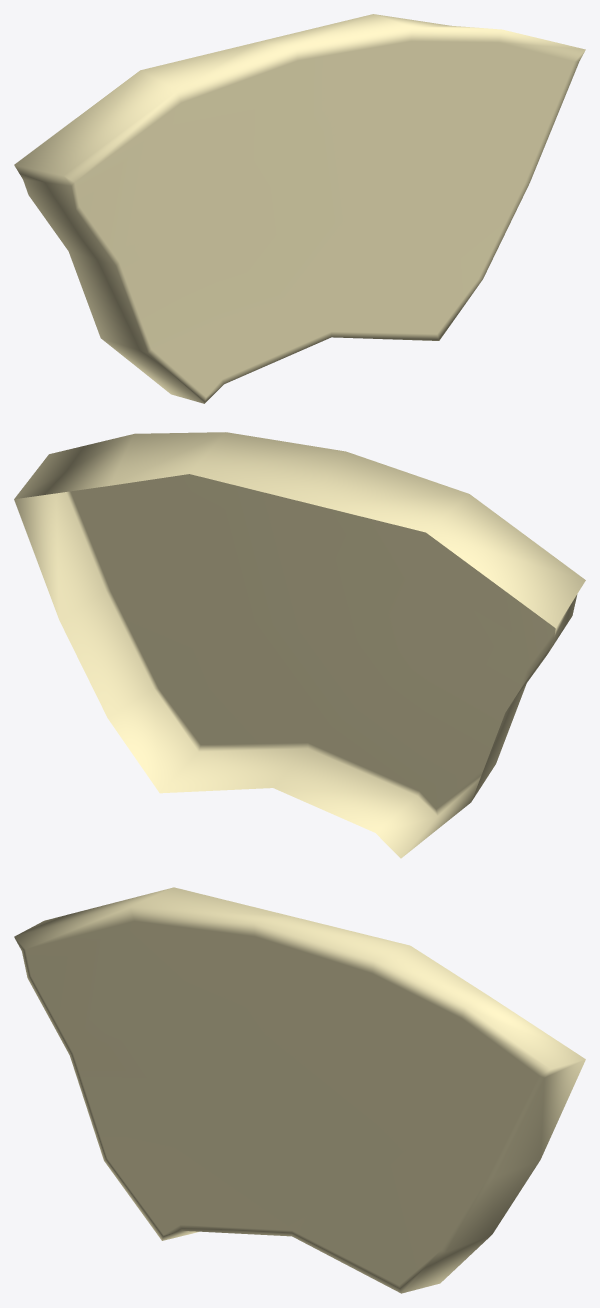
File: ui_radialMenu_6_topMid.glb
The picture shows the model from 3 angles, top to bottom: view 1: azimuth 30°, elevation 25°; view 2: azimuth 150°, elevation 25°; view 3: azimuth 330°, elevation 25°; orthographic projection. The views are drawn at different scales.
Parts seen in each view (by area): view 1: main6_topMid; view 2: main6_topMid; view 3: main6_topMid.
Part boxes in pixels (left/top/right/bottom): main6_topMid: left=14, top=14, right=585, bottom=403; main6_topMid: left=14, top=432, right=585, bottom=858; main6_topMid: left=14, top=887, right=585, bottom=1293.
Bounding box in the file's own units: 1.01 × 0.6368 × 0.1319.
